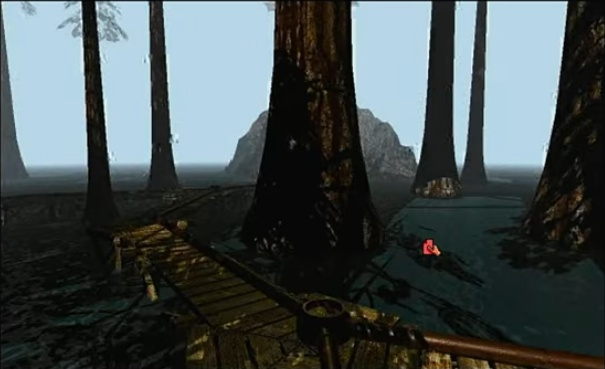Keep: (421, 236, 443, 259)
